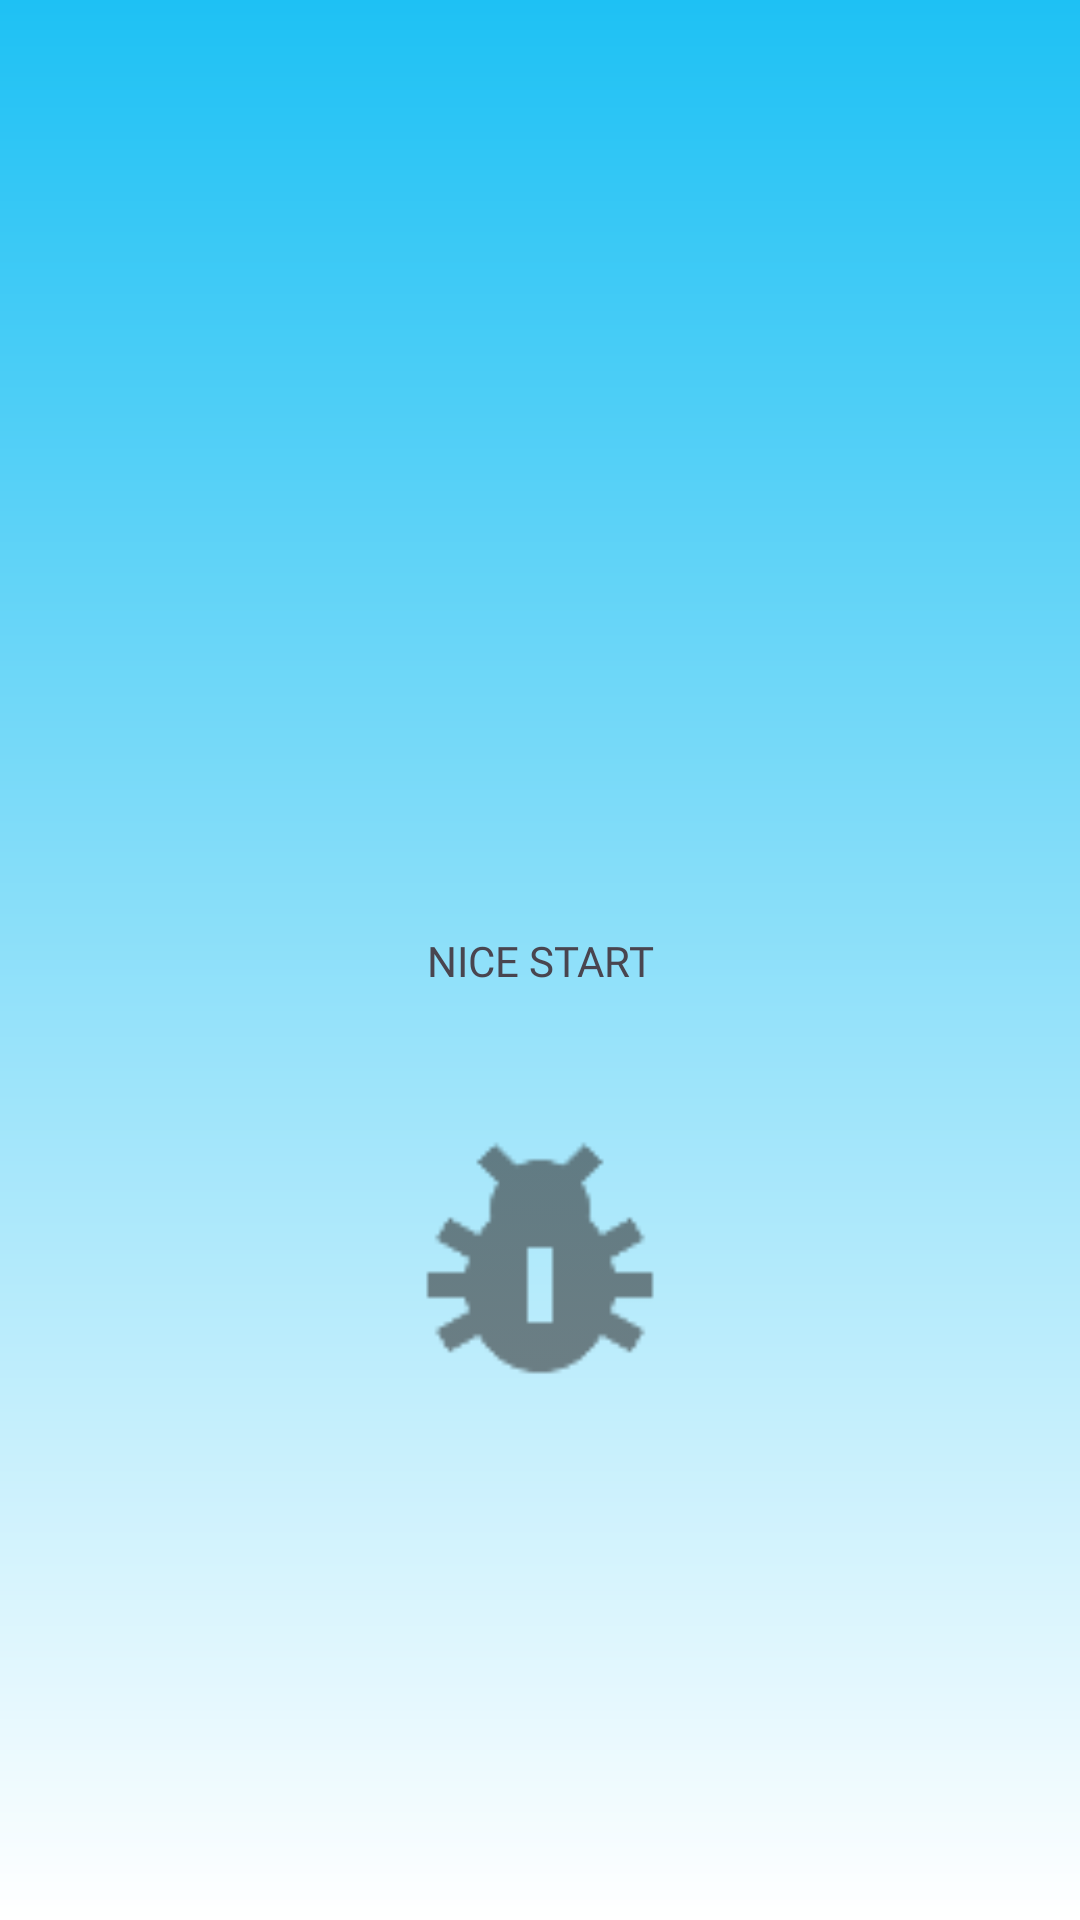

Screen size 1080*1920. Icon name, then its center in pixels as [x,y]:
bichito: [540,1276]
